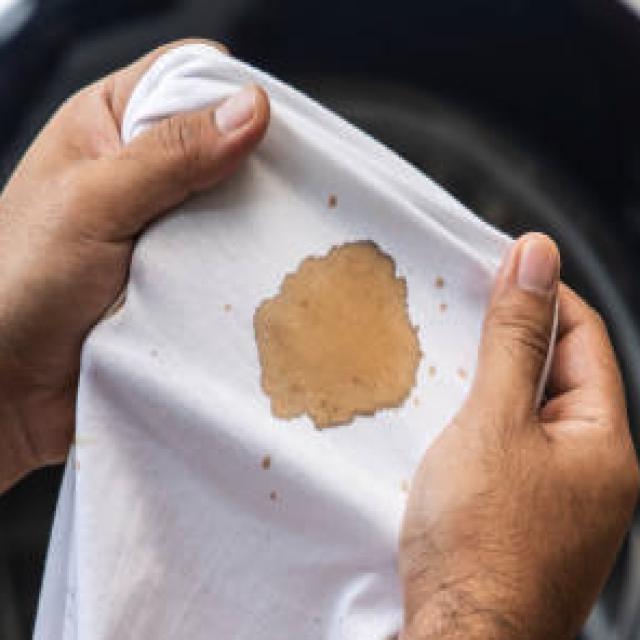coffee: (252, 236, 426, 430)
